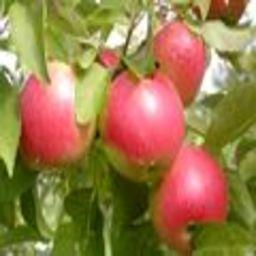apple: (99, 71, 188, 181), (16, 65, 98, 173), (153, 150, 227, 249), (149, 16, 207, 106)
